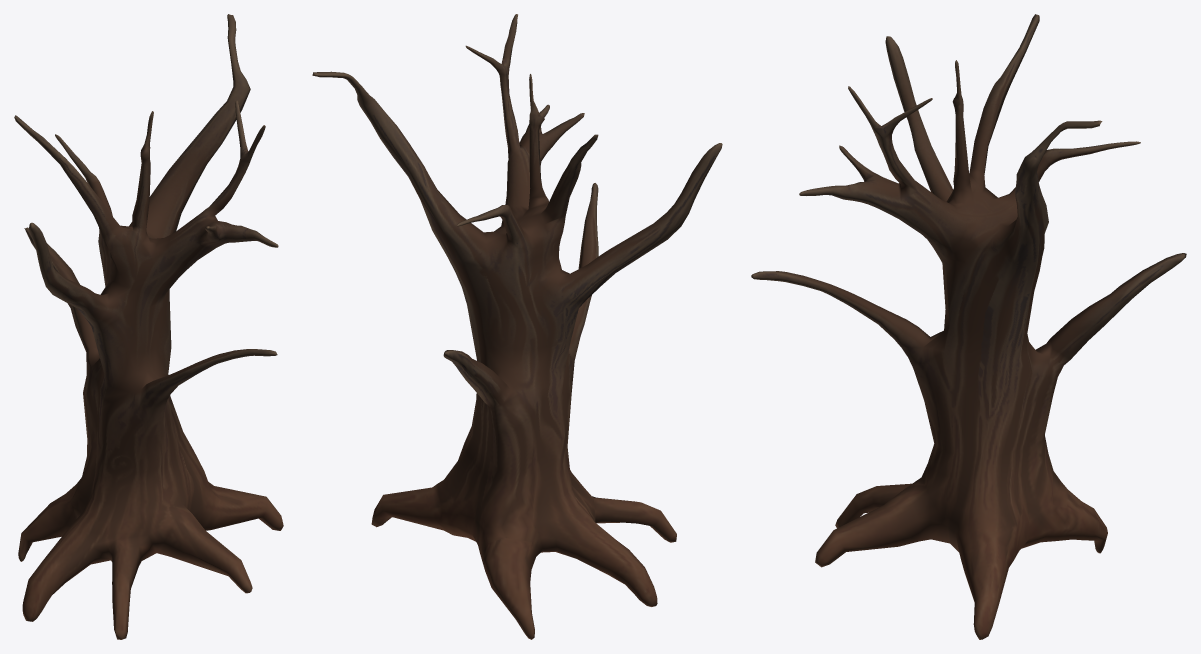
File: EN_P_L2Tree_02Trunk_19G4_01_19.fbx
3 renders of one model, left to right at view 1: azimuth 30°, elevation 25°; view 2: azimuth 150°, elevation 25°; view 3: azimuth 270°, elevation 25°, orthographic. The views are drawn at different scales.
Visible parts, largest first — view 1: EN_P_L2Tree_02Trunk_19G4_01_19; view 2: EN_P_L2Tree_02Trunk_19G4_01_19; view 3: EN_P_L2Tree_02Trunk_19G4_01_19.
Boxes of the visible parts, x1,y1,x2,y2 form: EN_P_L2Tree_02Trunk_19G4_01_19: (14, 14, 283, 639); EN_P_L2Tree_02Trunk_19G4_01_19: (312, 14, 722, 639); EN_P_L2Tree_02Trunk_19G4_01_19: (751, 14, 1186, 639).
Size of the model in its own units: 229 by 364 by 264.
